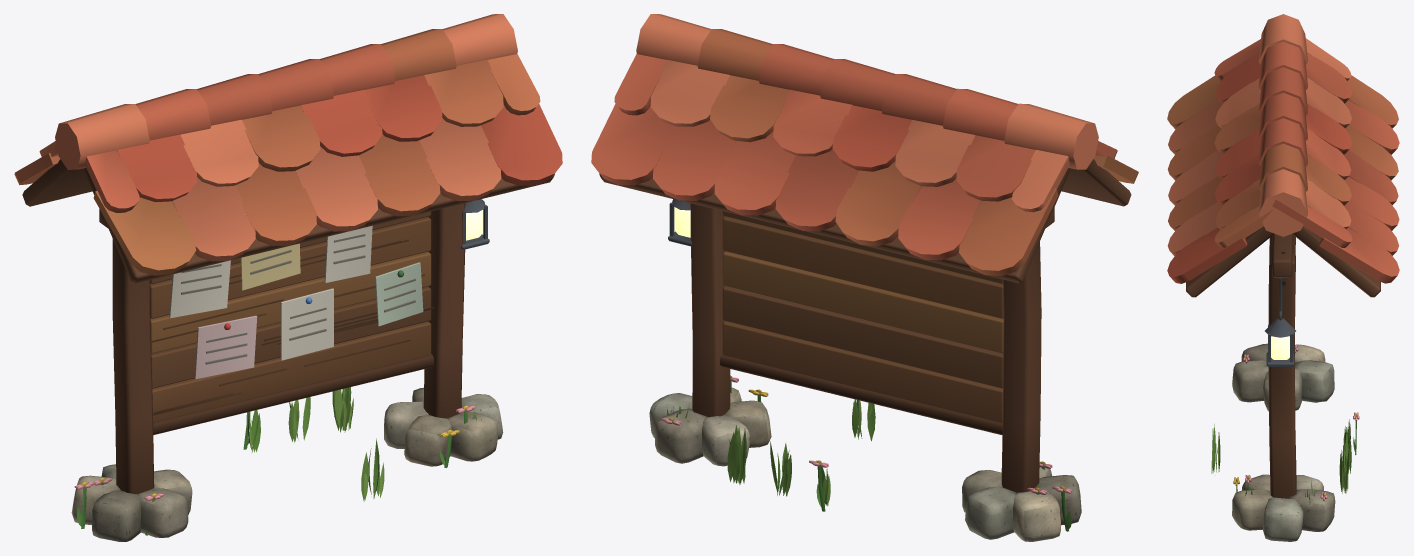
Rendered from notice_board.gltf.
The picture shows the model from 3 angles, left to right: view 1: azimuth 30°, elevation 25°; view 2: azimuth 150°, elevation 25°; view 3: azimuth 270°, elevation 25°; orthographic projection. The views are drawn at different scales.
Visible parts, largest first — view 1: Board, Notes, Stones; view 2: Board, Stones; view 3: Board, Stones.
Part boxes in pixels (x1,y1,x2,y2): Board: [14, 14, 562, 535]; Notes: [169, 225, 423, 379]; Stones: [71, 387, 503, 541]; Board: [591, 14, 1138, 531]; Stones: [649, 387, 1081, 541]; Board: [1167, 14, 1399, 504]; Stones: [1232, 343, 1335, 541].
Bounding box in the file's own units: 2.96 × 2.7 × 1.6.
34 materials, 1 textured.
